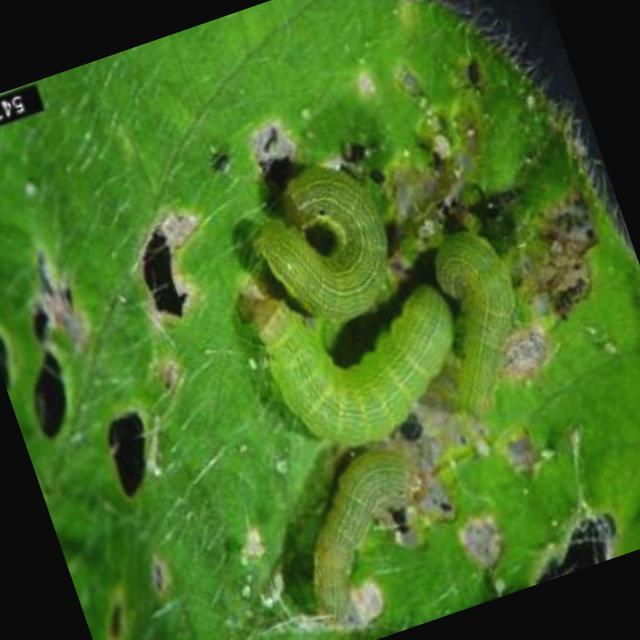Beet armyworm: (211, 228, 514, 502), (209, 95, 446, 362), (253, 421, 488, 640), (397, 206, 587, 452)
